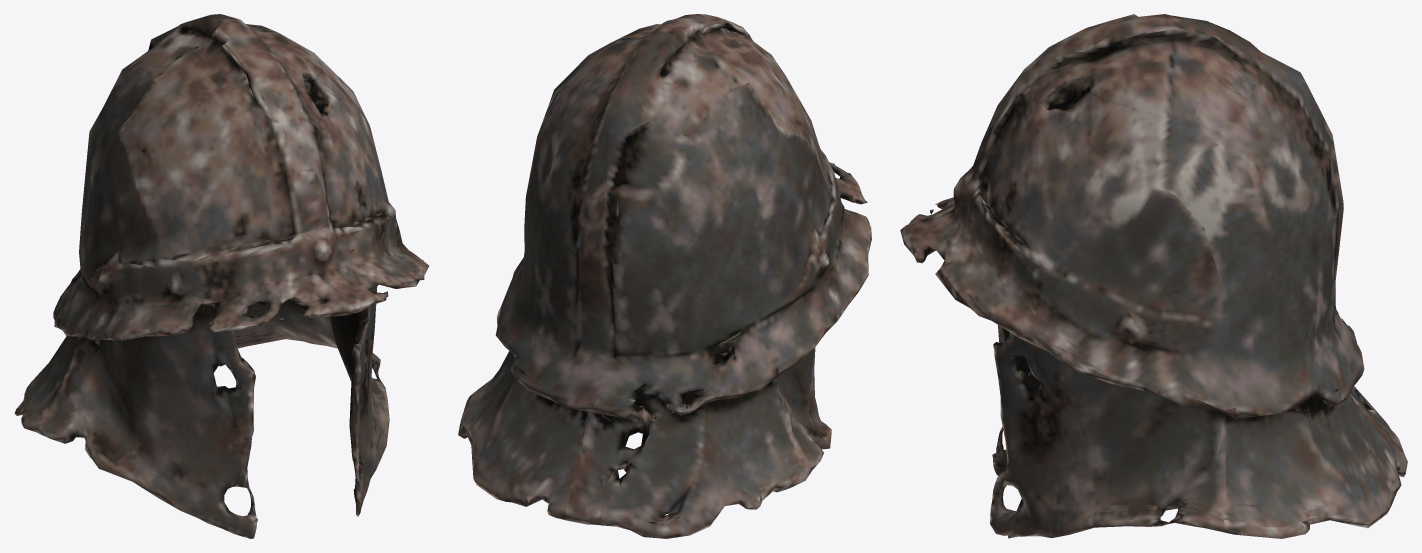
Rendered from helmet-pixelated.glb.
3 views of the same model, side by side, from view 1: azimuth 30°, elevation 25°; view 2: azimuth 150°, elevation 25°; view 3: azimuth 270°, elevation 25° (orthographic). The views are drawn at different scales.
Bounding box in the file's own units: 1.58 × 2 × 1.88.
Materials: 1 (1 with a texture image).
